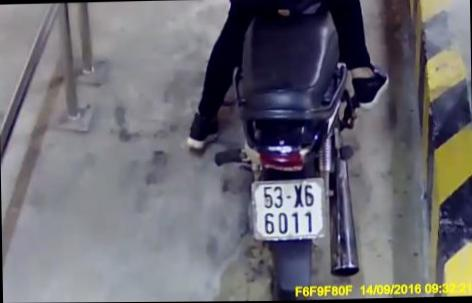LP: (247, 179, 328, 241)
